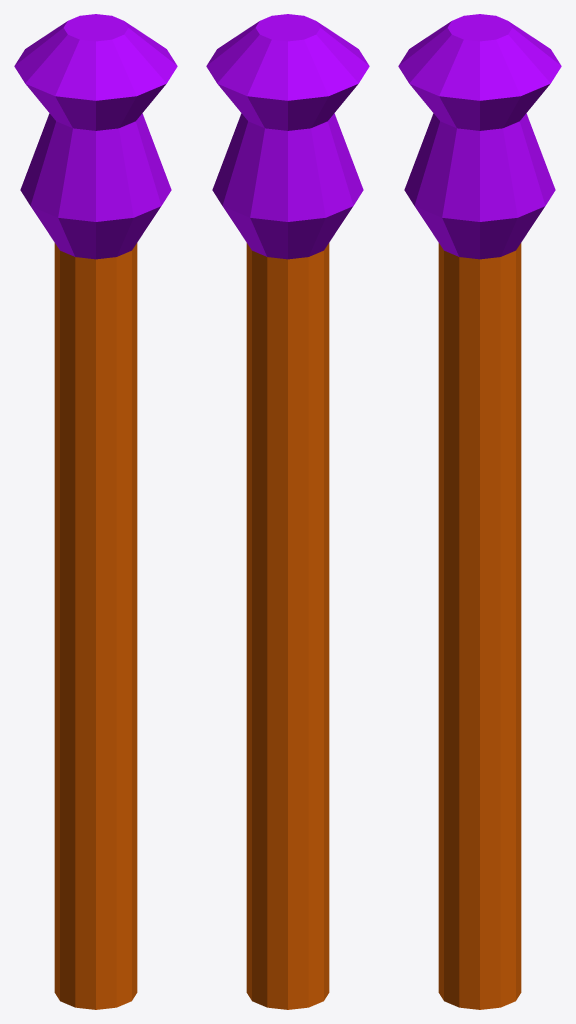
Rendered from rozdzka.fbx.
3 renders of one model, left to right at view 1: azimuth 30°, elevation 25°; view 2: azimuth 150°, elevation 25°; view 3: azimuth 270°, elevation 25°, orthographic.
Visible parts, largest first — view 1: Cylinder; view 2: Cylinder; view 3: Cylinder.
Part boxes in pixels (x1,y1,x2,y2): Cylinder: (14, 14, 177, 1009); Cylinder: (206, 14, 369, 1009); Cylinder: (398, 14, 561, 1009).
Size of the model in its own units: 39.49 by 257 by 39.49.
